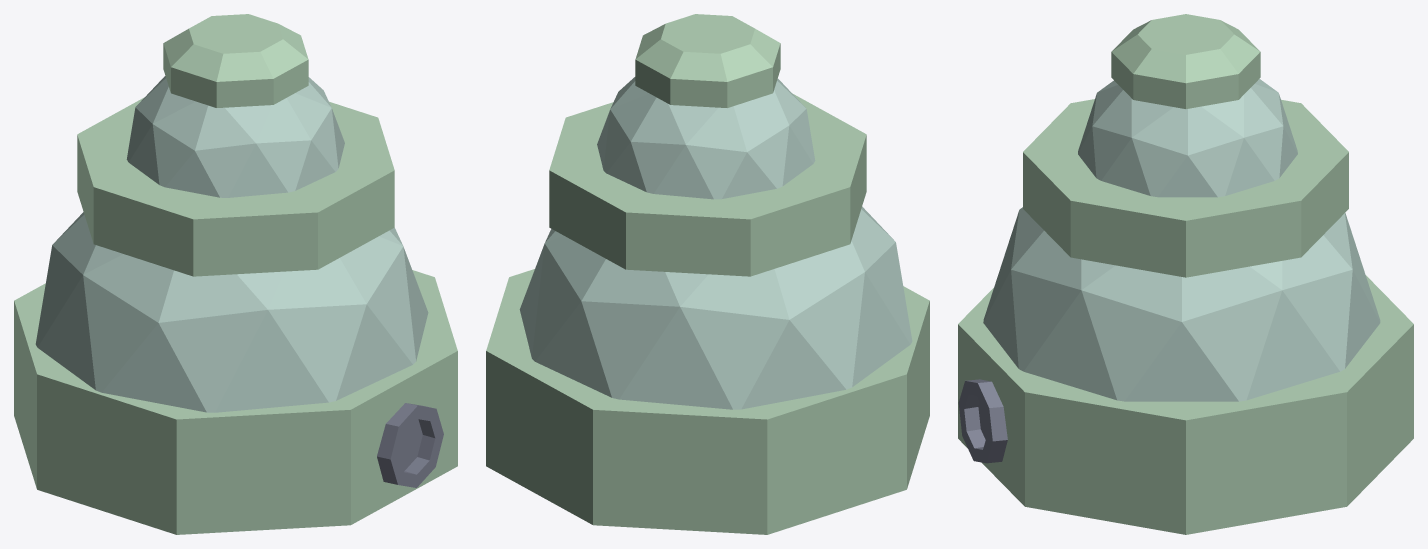
The model's file is appart v2 01.fbx.
3 renders of one model, left to right at view 1: azimuth 30°, elevation 25°; view 2: azimuth 150°, elevation 25°; view 3: azimuth 270°, elevation 25°, orthographic.
Visible parts, largest first — view 1: Cylinder, Icosphere.001, Cylinder.001, Icosphere.002, Cylinder.002, Cylinder.005; view 2: Cylinder, Icosphere.001, Cylinder.001, Icosphere.002, Cylinder.002; view 3: Cylinder, Icosphere.001, Cylinder.001, Icosphere.002, Cylinder.002, Cylinder.005.
Part boxes in pixels (left/top/right/bottom): Cylinder: left=14, top=270, right=457, bottom=534; Icosphere.001: left=35, top=212, right=428, bottom=412; Cylinder.001: left=77, top=97, right=394, bottom=276; Icosphere.002: left=126, top=76, right=344, bottom=197; Cylinder.002: left=163, top=14, right=308, bottom=107; Cylinder.005: left=377, top=403, right=443, bottom=487; Cylinder: left=486, top=269, right=929, bottom=534; Icosphere.001: left=519, top=206, right=912, bottom=409; Cylinder.001: left=549, top=93, right=866, bottom=276; Icosphere.002: left=597, top=77, right=815, bottom=199; Cylinder.002: left=635, top=14, right=780, bottom=107; Cylinder: left=958, top=275, right=1413, bottom=534; Icosphere.001: left=983, top=207, right=1380, bottom=401; Cylinder.001: left=1023, top=99, right=1348, bottom=277; Icosphere.002: left=1078, top=79, right=1297, bottom=197; Cylinder.002: left=1111, top=14, right=1260, bottom=108; Cylinder.005: left=958, top=379, right=1007, bottom=463.
Size of the model in its own units: 544 by 533 by 544.
